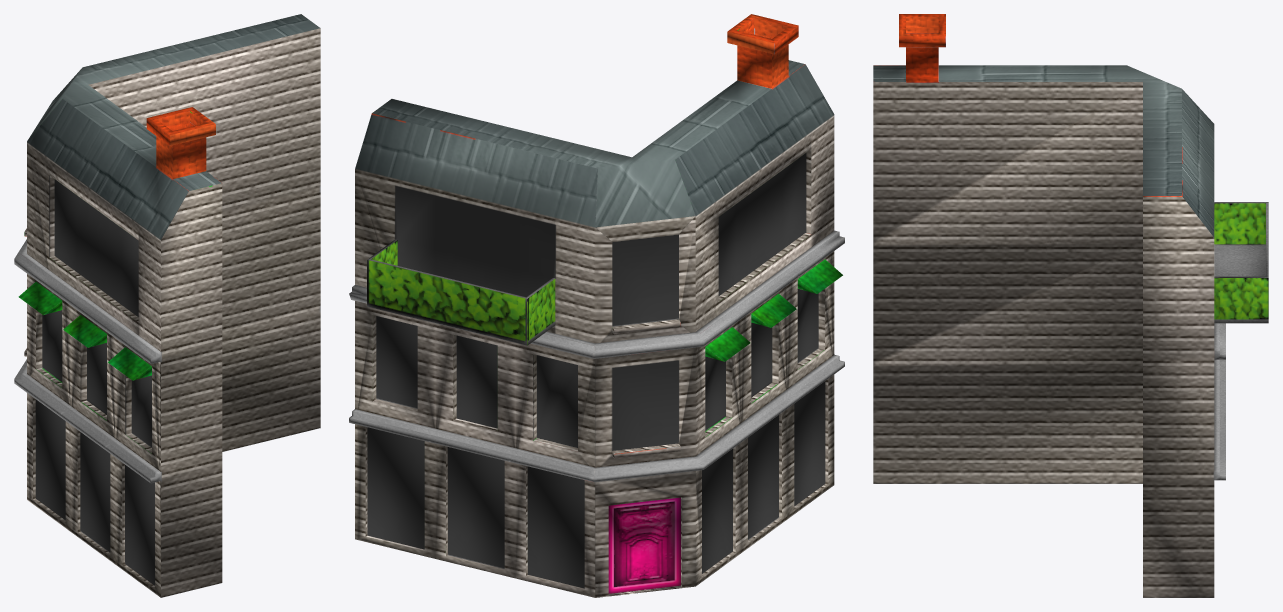
File: building_04.obj
3 views of the same model, side by side, from view 1: azimuth 30°, elevation 25°; view 2: azimuth 150°, elevation 25°; view 3: azimuth 270°, elevation 25° (orthographic). The views are drawn at different scales.
Visible parts, largest first — view 1: Cube2; view 2: Cube2; view 3: Cube2.
Boxes of the visible parts, x1,y1,x2,y2 form: Cube2: (14,14,320,597); Cube2: (349,14,844,597); Cube2: (873,14,1268,597).
Bounding box in the file's own units: 10.17 × 13.95 × 11.09.
1 material, 1 textured.
